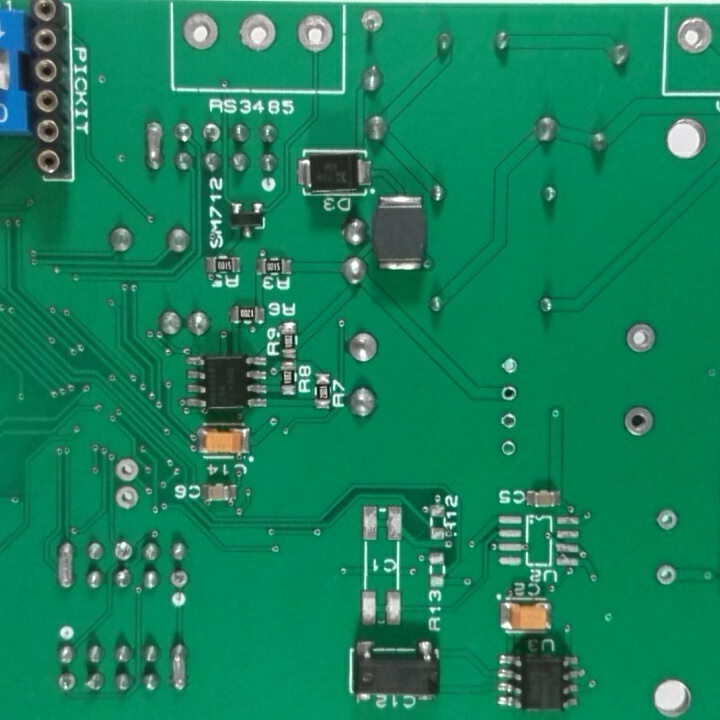F: (180, 10, 223, 52), (236, 9, 278, 52), (675, 15, 716, 59), (295, 13, 335, 56), (621, 404, 658, 439), (626, 319, 657, 359), (357, 7, 386, 35), (652, 561, 680, 590), (652, 506, 680, 533), (113, 484, 139, 513), (113, 456, 143, 481), (200, 118, 226, 146), (56, 669, 78, 696), (112, 539, 135, 564), (169, 569, 192, 593), (500, 354, 520, 378), (498, 412, 520, 433), (499, 386, 523, 404), (500, 439, 519, 460)
P: (141, 120, 168, 175), (53, 537, 78, 593), (167, 638, 190, 695)
